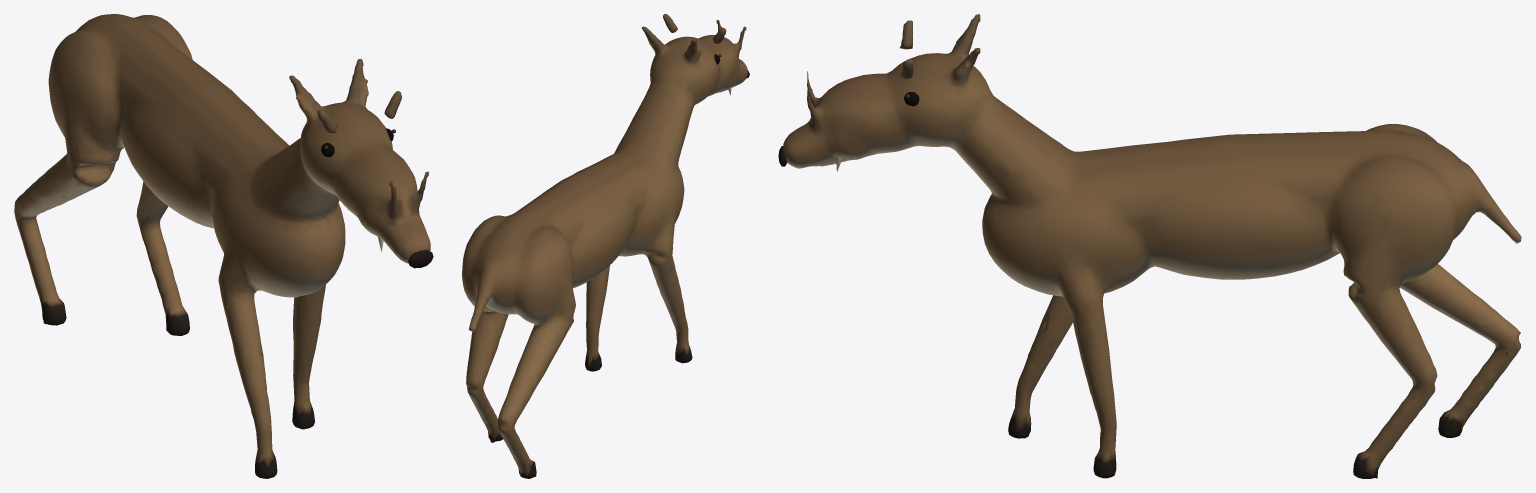
Rendered from ProtocerasCeler.fbx.
3 views of the same model, side by side, from view 1: azimuth 30°, elevation 25°; view 2: azimuth 150°, elevation 25°; view 3: azimuth 270°, elevation 25° (orthographic). The views are drawn at different scales.
Parts seen in each view (by area): view 1: ProtocerasCeler; view 2: ProtocerasCeler; view 3: ProtocerasCeler.
Boxes of the visible parts, x1,y1,x2,y2 form: ProtocerasCeler: (14, 14, 433, 478); ProtocerasCeler: (462, 14, 749, 478); ProtocerasCeler: (778, 14, 1521, 478).
Size of the model in its own units: 0.2812 by 0.8831 by 1.4.
